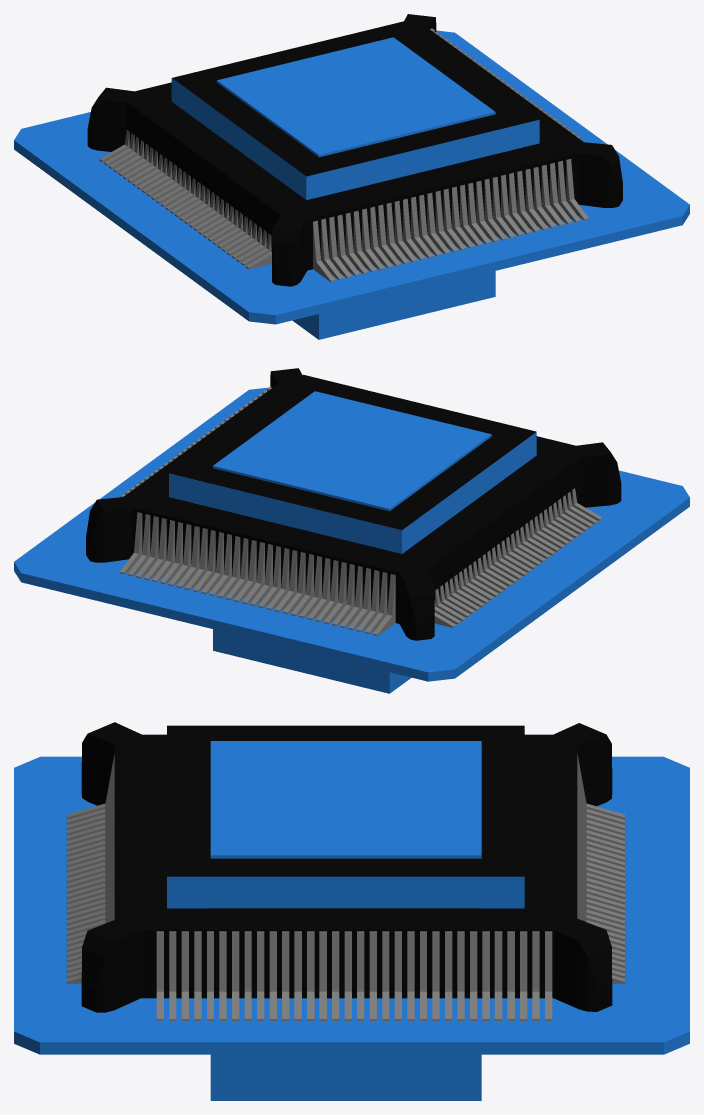
Rendered from chip.glb.
3 views of the same model, one above another, from view 1: azimuth 30°, elevation 25°; view 2: azimuth 150°, elevation 25°; view 3: azimuth 270°, elevation 25° (orthographic). The views are drawn at different scales.
Parts seen in each view (by area): view 1: Object_2.002, Object_5.003, Cube, Object_4.006, Object_2.006, Object_4.007; view 2: Object_2.002, Object_5.003, Cube, Object_4.006, Object_2.006, Object_4.007; view 3: Object_2.002, Object_5.003, Cube, Object_4.007, Object_4.006, Object_2.006.
Boxes of the visible parts, box(x1,y1,x2,y2) form: Object_2.002: box(87, 14, 622, 286); Object_5.003: box(14, 30, 689, 324); Cube: box(216, 37, 495, 339); Object_4.006: box(198, 97, 588, 282); Object_2.006: box(171, 78, 539, 199); Object_4.007: box(99, 28, 581, 269); Object_2.002: box(86, 368, 621, 640); Object_5.003: box(14, 387, 689, 681); Cube: box(213, 391, 491, 693); Object_4.006: box(119, 452, 508, 635); Object_2.006: box(169, 432, 536, 553); Object_4.007: box(120, 387, 602, 627); Object_2.002: box(81, 722, 612, 1012); Object_5.003: box(14, 756, 689, 1054); Cube: box(210, 741, 481, 1100); Object_4.007: box(156, 931, 552, 1020); Object_4.006: box(66, 753, 625, 983); Object_2.006: box(167, 876, 524, 907).
Bounding box in the file's own units: 2.44 × 0.9778 × 2.44.
